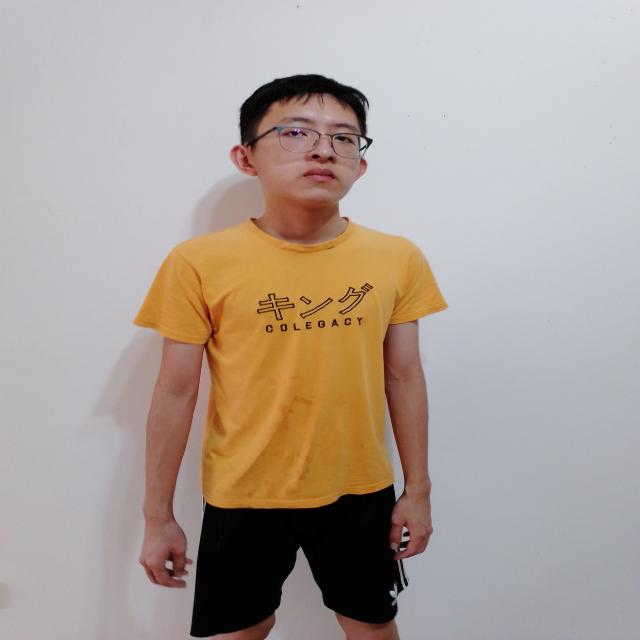person_without_labcoat: (136, 76, 446, 640)
